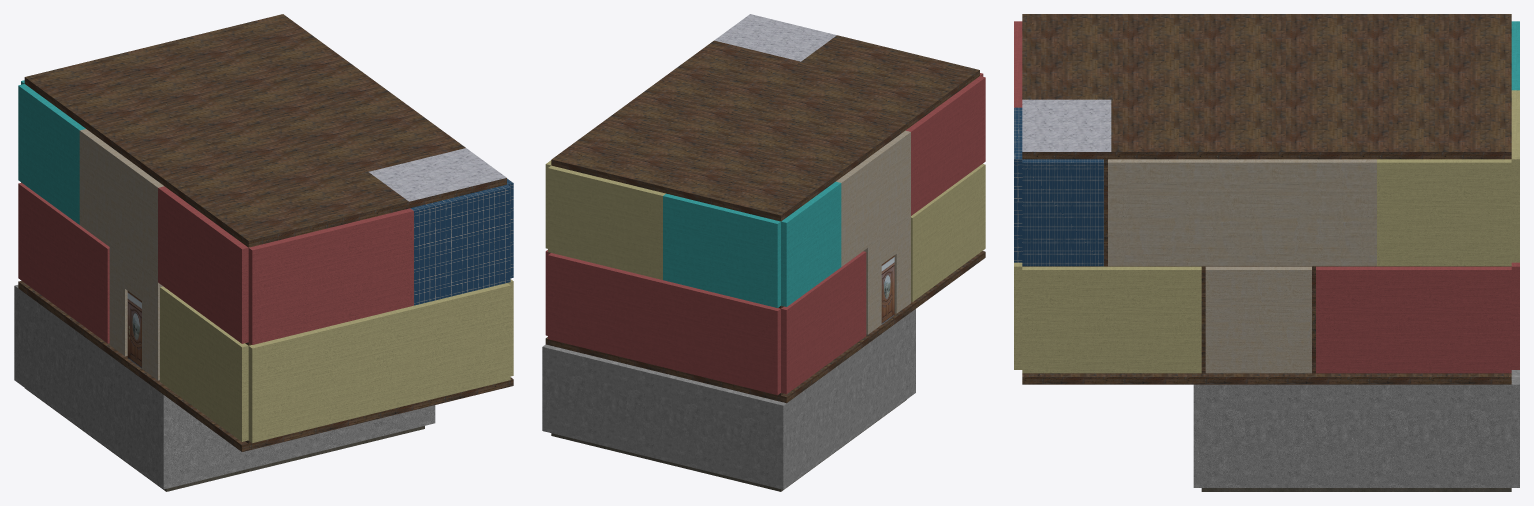
File: CASA DEFINITIVAs.fbx
3 views of the same model, side by side, from view 1: azimuth 30°, elevation 25°; view 2: azimuth 150°, elevation 25°; view 3: azimuth 270°, elevation 25° (orthographic). The views are drawn at different scales.
Parts seen in each view (by area): view 1: Floor.3F, Wall_1F_Yell.003, Wall_2F_Red.002, Wall_B1.001, Wall_2F_Bathroom.001, Wall_2F_Red.001, Wall_1F_Red.001, Wall_1F_Yell.001, Wall_B1.004, Wall_2F_Corridor.002, Wall_2F_Blue.001, Floor.1F (+4 smaller); view 2: Floor.3F, Wall_B1.003, Wall_1F_Red.003, Wall_B1.001, Wall_2F_Blue.002, Wall_2F_Yell.001, Wall_1F_Red.001, Wall_2F_Red.001, Wall_1F_Yell.001, Wall_2F_Corridor.002, Wall_2F_Blue.001, Floor.1F (+4 smaller); view 3: Floor.3F, Wall_B1.002, Wall_2F_Corridor.001, Wall_1F_Red.002, Wall_1F_Yell.002, Wall_2F_Yell.002, Wall_1F_Corridor.001, Wall_2F_Bathroom.002, Floor.1F, House.Frame, Wall_2F_Yell.001, Wall_2F_Bathroom.001 (+8 smaller).
Part boxes in pixels (x1,y1,x2,y2): Floor.3F: [24, 14, 506, 247]; Wall_1F_Yell.003: [248, 283, 510, 442]; Wall_2F_Red.002: [248, 208, 413, 344]; Wall_B1.001: [18, 288, 159, 486]; Wall_2F_Bathroom.001: [410, 184, 510, 305]; Wall_2F_Red.001: [158, 186, 248, 343]; Wall_1F_Red.001: [18, 182, 109, 343]; Wall_1F_Yell.001: [160, 286, 248, 441]; Wall_B1.004: [160, 392, 435, 489]; Wall_2F_Corridor.002: [79, 129, 163, 281]; Wall_2F_Blue.001: [18, 84, 85, 224]; Floor.1F: [18, 281, 513, 451]; Floor.3F: [551, 14, 979, 221]; Wall_B1.003: [542, 344, 786, 489]; Wall_1F_Red.003: [548, 253, 780, 395]; Wall_B1.001: [786, 311, 912, 486]; Wall_2F_Blue.002: [663, 193, 780, 307]; Wall_2F_Yell.001: [548, 165, 665, 279]; Wall_1F_Red.001: [781, 251, 866, 394]; Wall_2F_Red.001: [906, 76, 985, 215]; Wall_1F_Yell.001: [911, 164, 985, 301]; Wall_2F_Corridor.002: [836, 130, 910, 266]; Wall_2F_Blue.001: [781, 181, 841, 306]; Floor.1F: [545, 251, 985, 403]; Floor.3F: [1022, 14, 1511, 159]; Wall_B1.002: [1201, 384, 1511, 487]; Wall_2F_Corridor.001: [1108, 159, 1376, 266]; Wall_1F_Red.002: [1316, 266, 1511, 373]; Wall_1F_Yell.002: [1022, 266, 1201, 373]; Wall_2F_Yell.002: [1377, 159, 1511, 266]; Wall_1F_Corridor.001: [1205, 266, 1311, 373]; Wall_2F_Bathroom.002: [1022, 159, 1103, 266]; Floor.1F: [1022, 373, 1511, 384]; House.Frame: [1022, 159, 1319, 373]; Wall_2F_Yell.001: [1511, 90, 1519, 262]; Wall_2F_Bathroom.001: [1014, 107, 1022, 262].
Size of the model in its own units: 840 by 920 by 1240.
